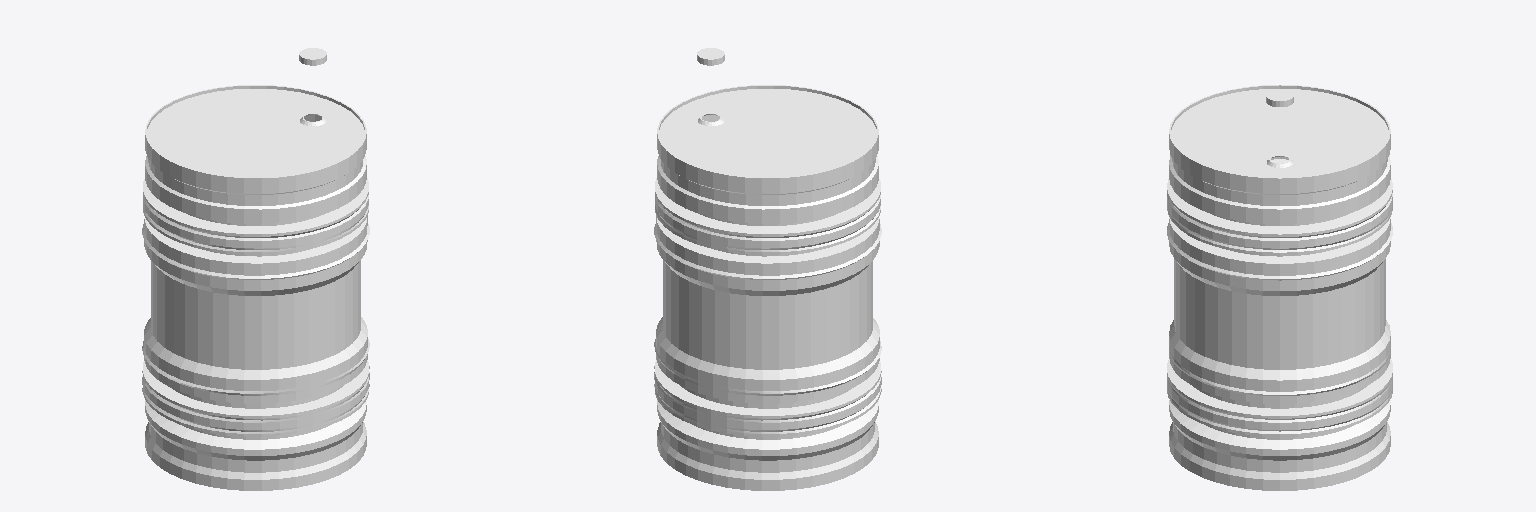
The model's file is sci-fi-barrel.obj.
3 renders of one model, left to right at view 1: azimuth 30°, elevation 25°; view 2: azimuth 150°, elevation 25°; view 3: azimuth 270°, elevation 25°, orthographic.
Parts seen in each view (by area): view 1: pCylinder25_meshId0_name; view 2: pCylinder25_meshId0_name; view 3: pCylinder25_meshId0_name.
Boxes of the visible parts, <box> form: pCylinder25_meshId0_name: <box>142,48,369,490</box>; pCylinder25_meshId0_name: <box>654,48,881,490</box>; pCylinder25_meshId0_name: <box>1167,85,1392,490</box>.
Size of the model in its own units: 1.11 by 2 by 1.09.